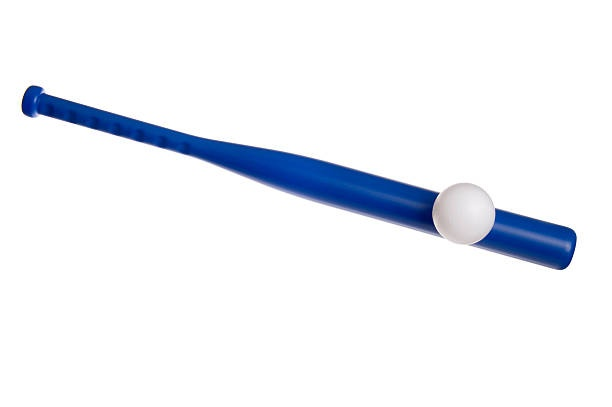bita: (20, 83, 576, 270)
